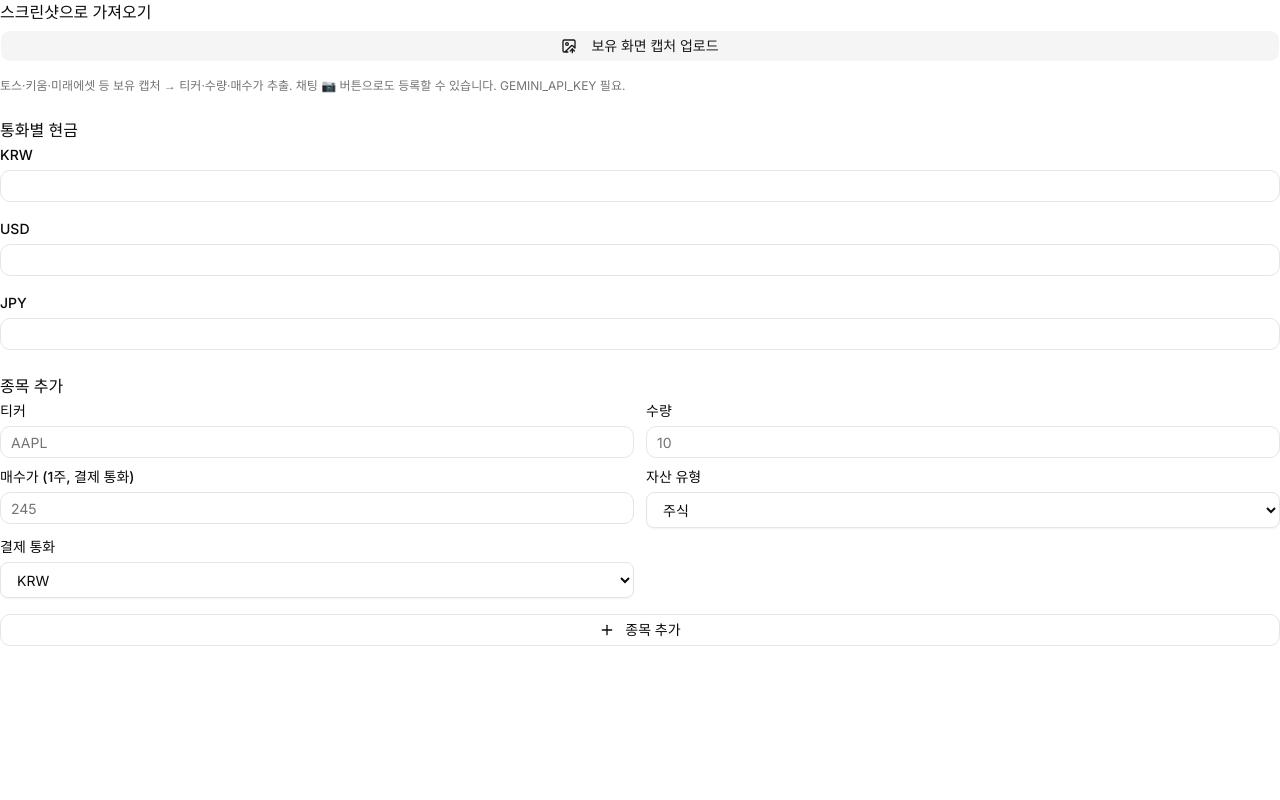
Test: HoldingsEditor › 알 수 없는 티커 추가 시 섹터 선택 다이얼로그가 표시된다
Later steps or results of the test are not shown.
Step 1. Type "MYSTERY" into the field labelled "티커" → (317, 442), box [0, 426, 634, 458]
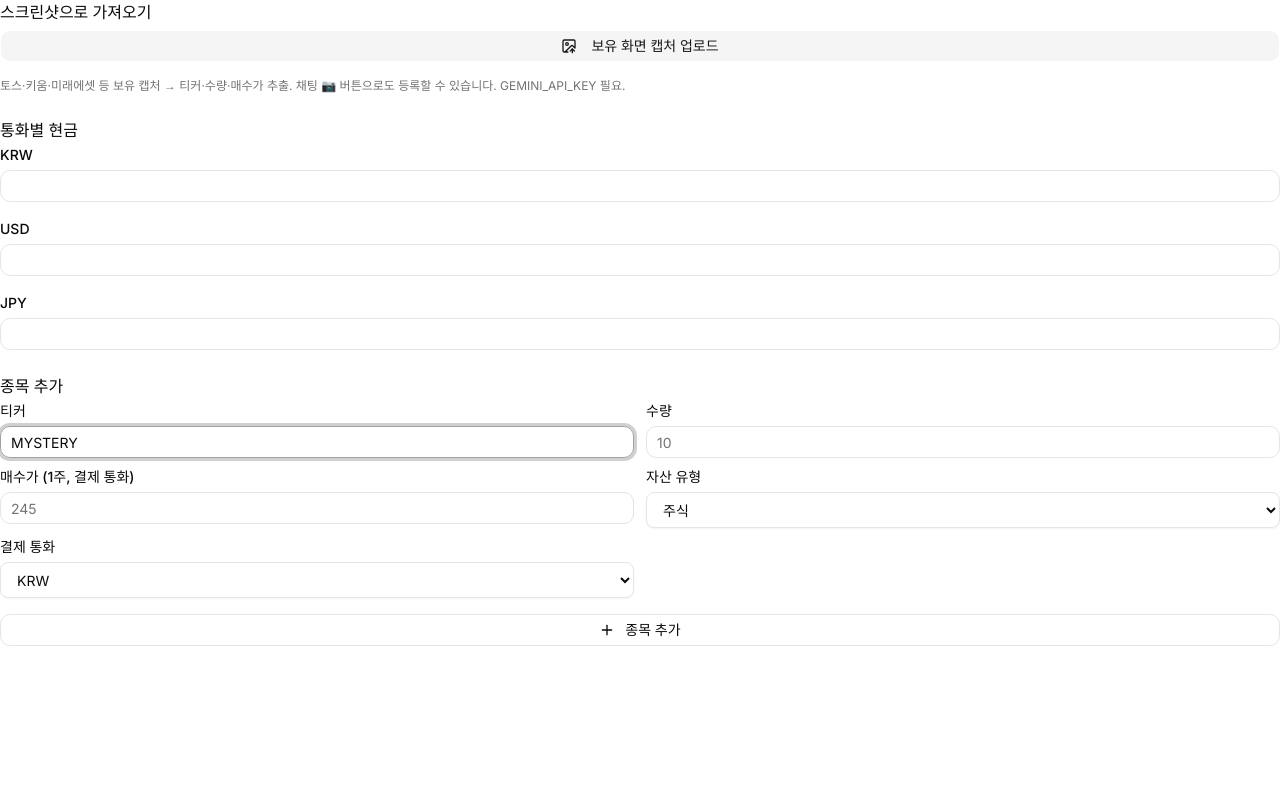
Step 2. Type "5" into the field labelled "수량" → (963, 442), box [646, 426, 1279, 458]
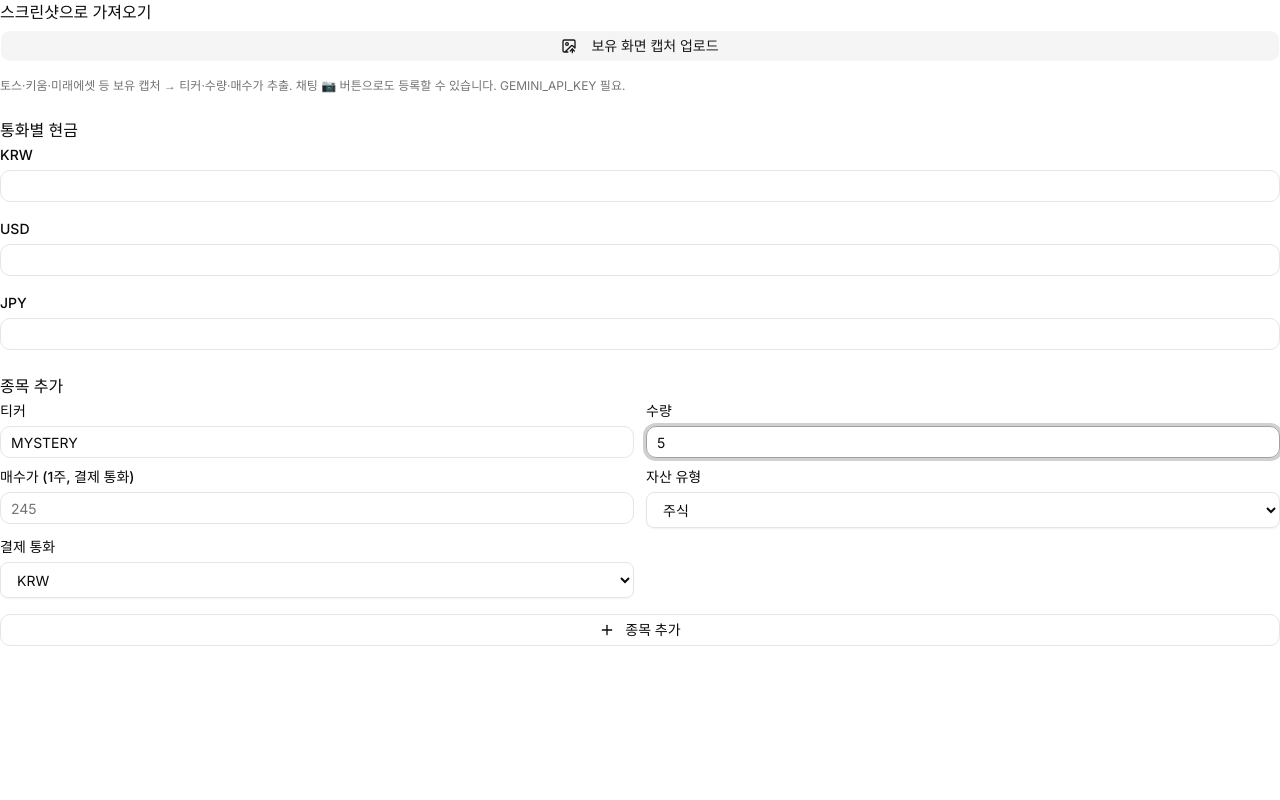
Step 3. Type "100" into the field labelled "매수가 (1주, 결제 통화)" → (317, 508), box [0, 492, 634, 524]
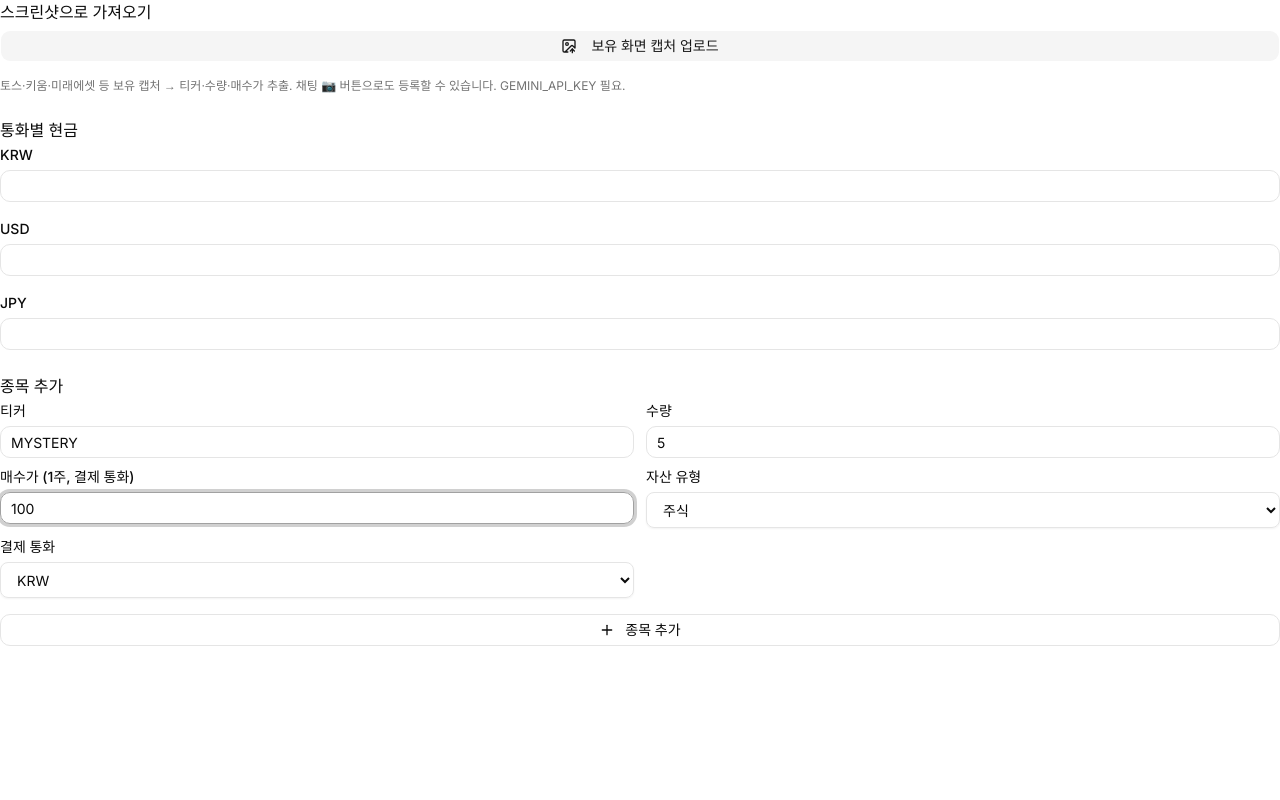
Step 4. Click the button "종목 추가" → (640, 630), box [0, 614, 1279, 646]
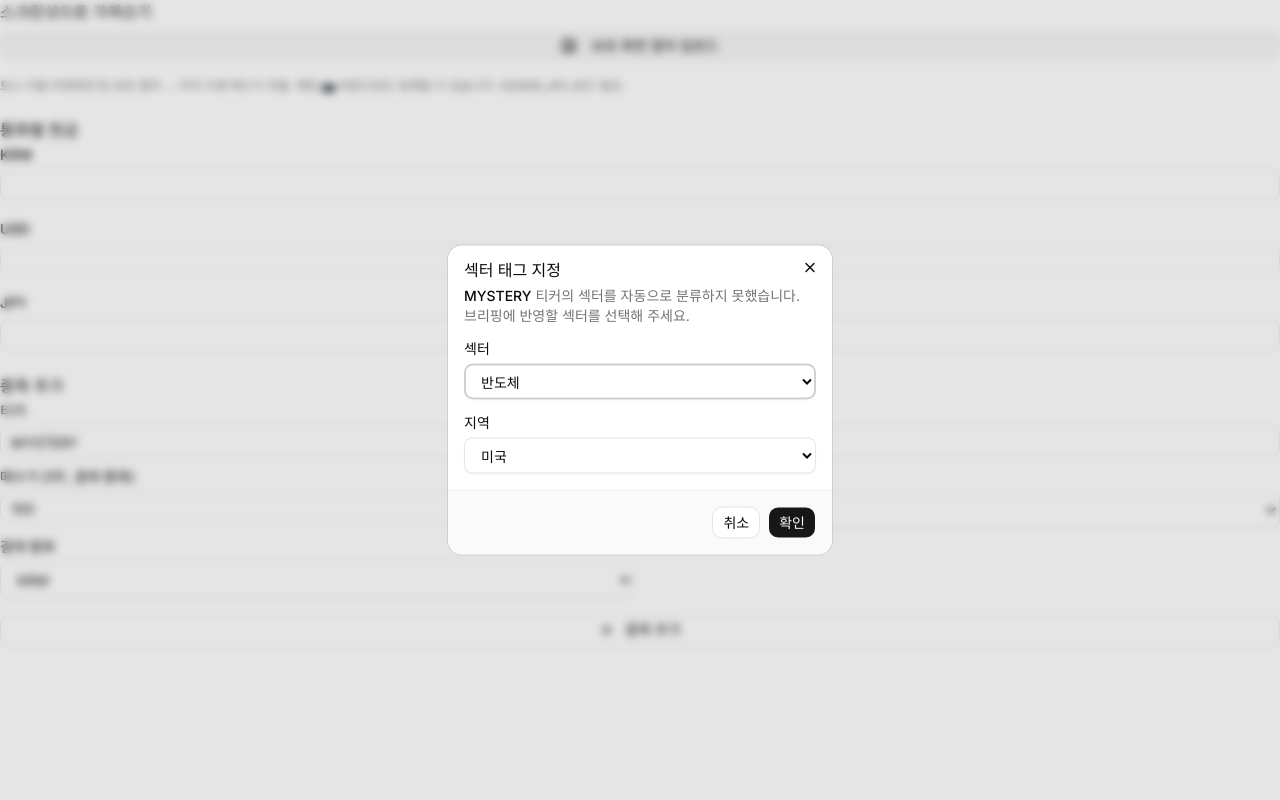
Expected: the dialog is shown, [448, 246, 832, 554]
